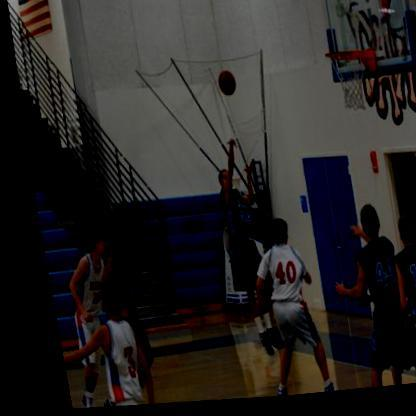basketball: (212, 72, 235, 102)
rim: (321, 53, 361, 70)
